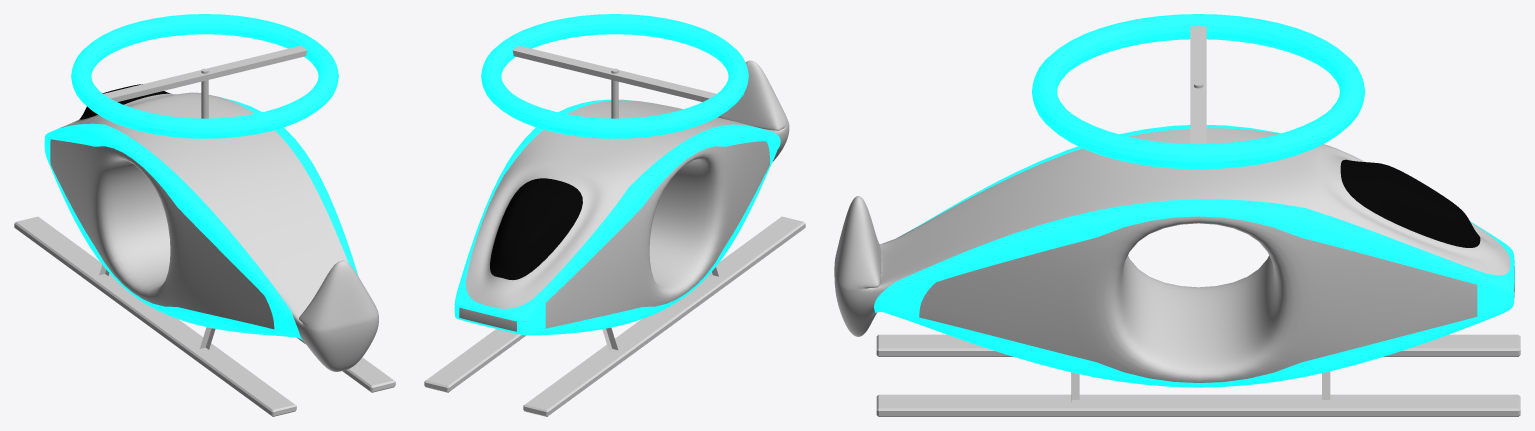
File: space-chopper.gltf
3 renders of one model, left to right at view 1: azimuth 30°, elevation 25°; view 2: azimuth 150°, elevation 25°; view 3: azimuth 270°, elevation 25°, orthographic. The views are drawn at different scales.
Parts seen in each view (by area): view 1: hull, rotor, skid-left, blade, skid-right; view 2: hull, rotor, skid-left, blade, skid-right; view 3: hull, rotor, skid-right, skid-left, blade.
Boxes of the visible parts, x1,y1,x2,y2 form: hull: [44, 84, 378, 371]; rotor: [71, 14, 338, 138]; skid-left: [14, 216, 296, 416]; blade: [103, 45, 307, 101]; skid-right: [297, 338, 395, 392]; hull: [454, 60, 789, 335]; rotor: [481, 14, 748, 138]; skid-left: [523, 216, 805, 416]; blade: [512, 45, 716, 101]; skid-right: [424, 329, 525, 392]; hull: [834, 125, 1514, 387]; rotor: [1032, 14, 1365, 169]; skid-right: [876, 371, 1520, 416]; skid-left: [876, 334, 1520, 356]; blade: [1190, 26, 1206, 144].
Bounding box in the file's own units: 3.16 × 3.14 × 6.5.
